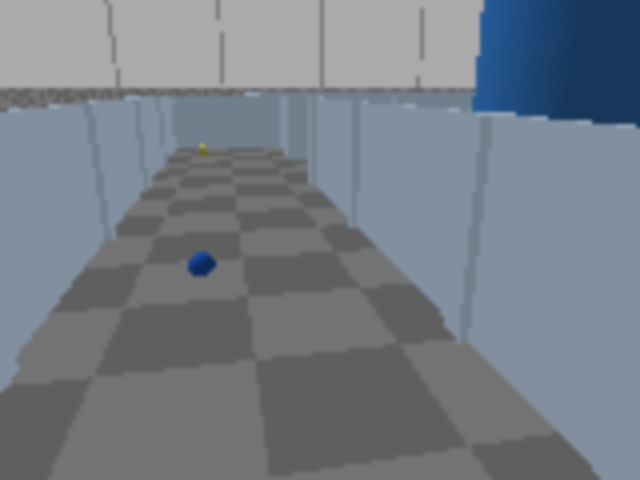puck: (186, 248, 216, 282)
